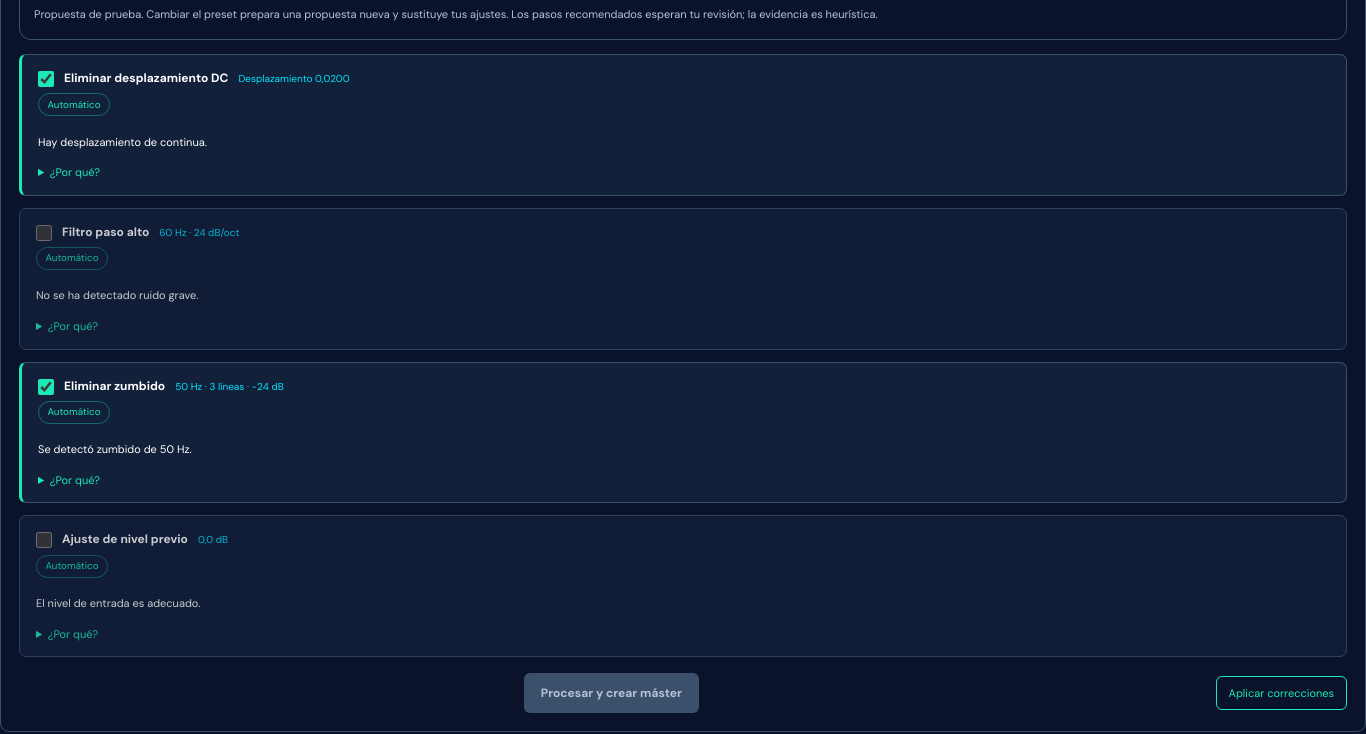
reports rendering failures and safety trims without losing the plan
This screenshot has width=1366, height=734.
(page scrolled)
Click the button "Aplicar correcciones" at [1281, 693], box x1=1216 y1=676 x2=1347 y2=710
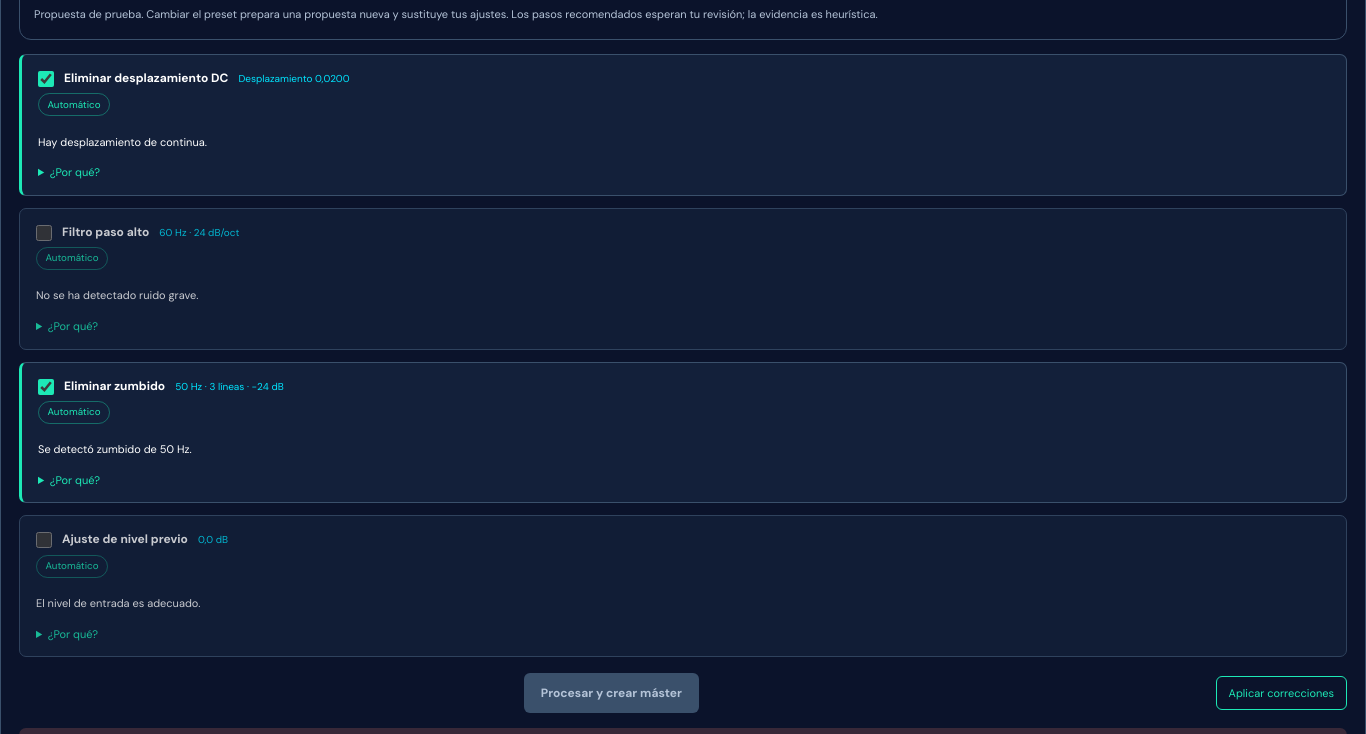
expect the element "Eliminar zumbido" is shown: met, box x1=19 y1=362 x2=1347 y2=503
Click the button "Aplicar correcciones" at [1281, 693], box x1=1216 y1=676 x2=1347 y2=710
(page scrolled)
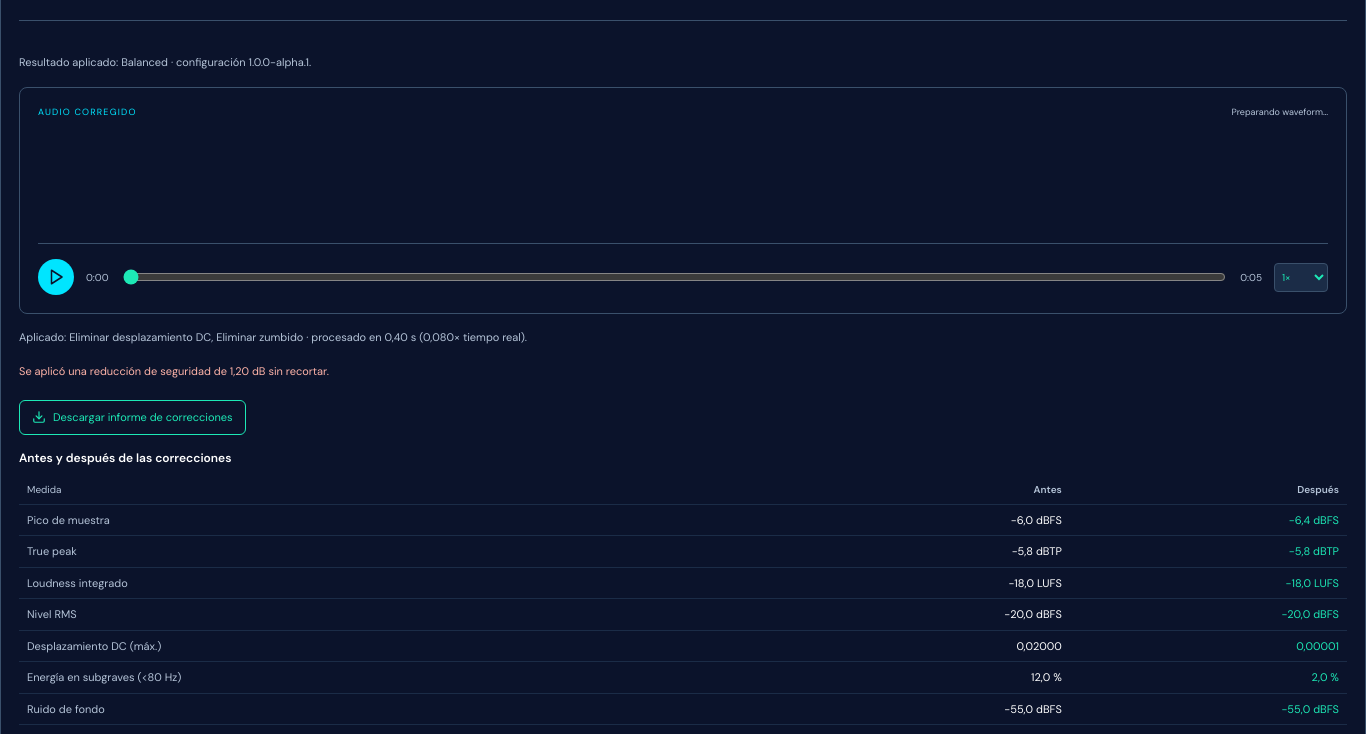
expect the message shows "reducción de seguridad de 1,20 dB": met, box x1=19 y1=364 x2=329 y2=378
